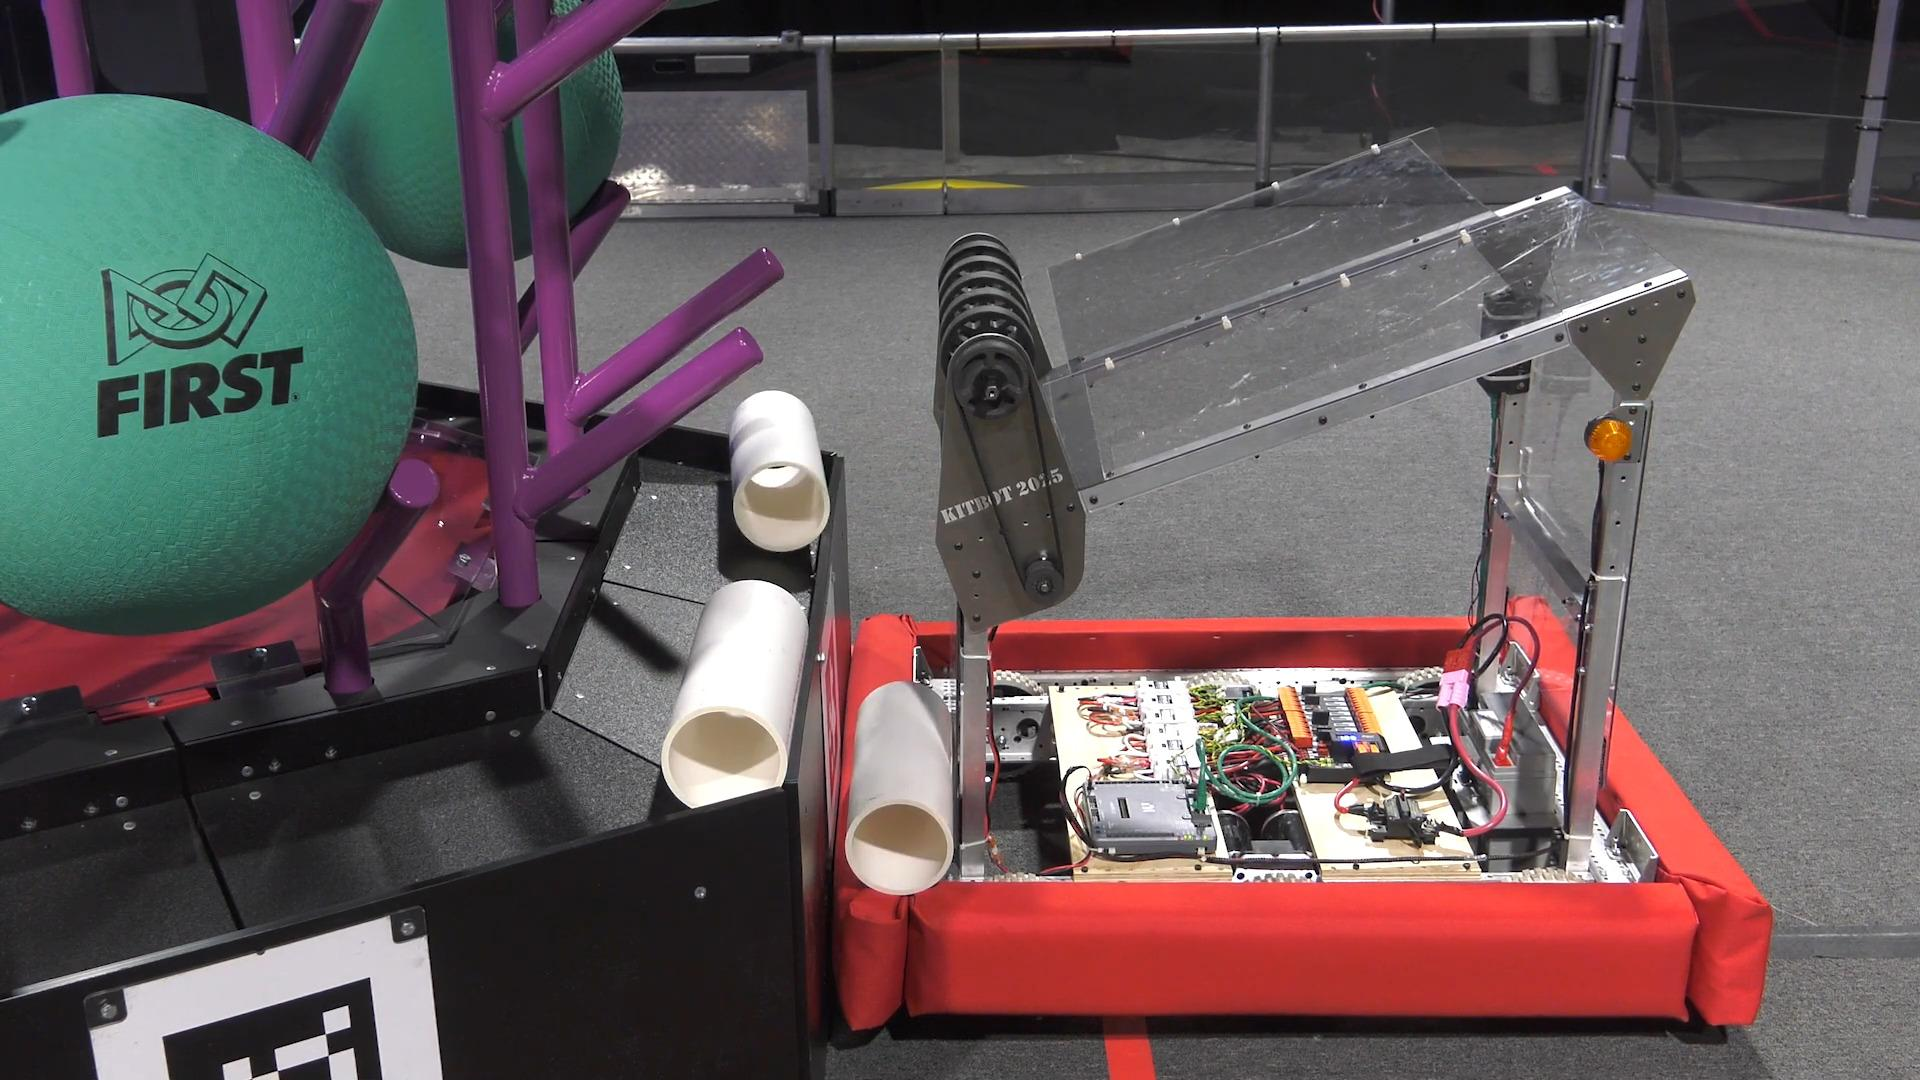coral: (658, 578, 808, 808), (843, 678, 957, 895), (725, 386, 831, 553)
